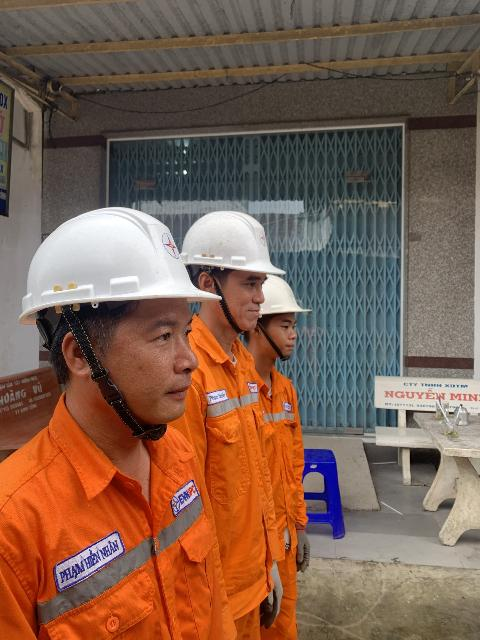helmet: (1, 192, 215, 349), (171, 184, 288, 295), (231, 259, 314, 330)
